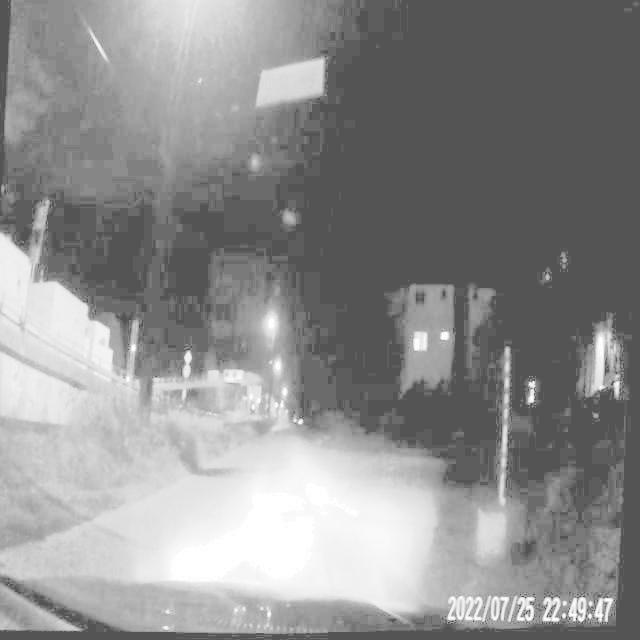Pothole: (322, 487, 371, 525)
